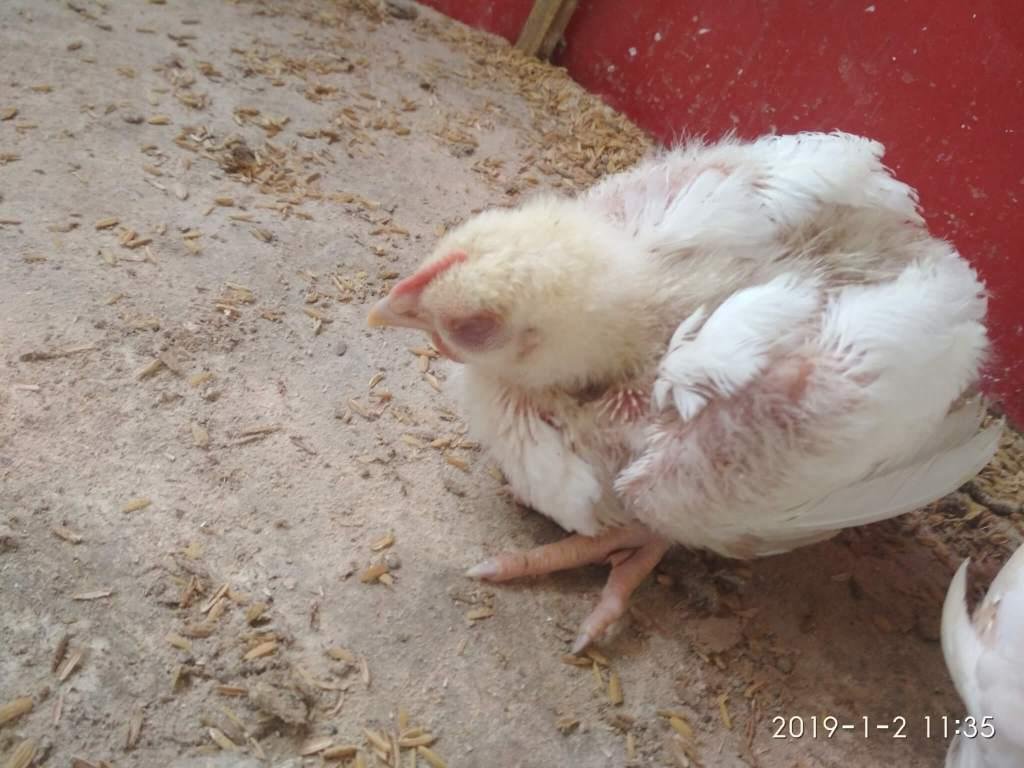AbNormal: (370, 125, 1012, 657)
